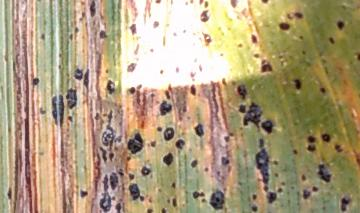tarspot: (254, 137, 278, 205), (100, 107, 123, 155), (98, 173, 116, 213), (242, 101, 264, 132), (50, 92, 67, 129), (125, 132, 145, 155), (208, 190, 227, 210), (128, 182, 146, 203), (65, 86, 79, 111), (317, 162, 332, 183), (157, 99, 172, 118), (81, 67, 92, 90), (259, 58, 274, 74), (162, 126, 176, 143), (338, 194, 351, 212), (104, 78, 117, 96), (200, 30, 213, 48), (192, 122, 206, 138), (109, 171, 120, 191), (261, 119, 274, 134), (162, 151, 174, 167), (350, 147, 360, 165), (199, 9, 211, 24), (98, 145, 108, 163), (72, 66, 83, 82), (88, 1, 98, 18), (237, 82, 247, 99), (247, 32, 259, 46), (128, 22, 139, 37), (334, 18, 346, 31), (140, 164, 152, 177), (293, 9, 305, 22), (125, 61, 137, 74), (174, 139, 185, 153), (301, 188, 312, 202), (276, 22, 291, 32), (219, 154, 231, 166), (5, 186, 14, 202), (188, 157, 199, 170), (191, 190, 206, 199), (333, 142, 344, 154), (305, 143, 317, 154), (98, 29, 110, 40), (293, 77, 302, 91), (78, 10, 87, 24), (30, 76, 41, 87), (320, 132, 331, 143), (127, 85, 138, 96), (305, 134, 317, 144), (133, 42, 140, 58), (189, 83, 197, 97), (326, 35, 337, 45), (78, 188, 89, 198), (151, 19, 161, 30), (237, 103, 248, 113), (170, 196, 179, 208), (126, 170, 135, 182), (222, 135, 232, 145), (285, 11, 294, 22), (37, 106, 48, 115), (66, 113, 74, 125), (115, 201, 123, 213), (67, 31, 75, 43), (229, 1, 239, 10), (173, 64, 182, 74), (161, 32, 167, 47), (299, 172, 307, 183), (39, 31, 47, 42), (93, 111, 101, 122), (167, 80, 173, 94), (318, 85, 327, 94), (270, 158, 279, 167), (163, 90, 172, 99), (188, 69, 197, 78), (149, 139, 157, 149), (250, 203, 258, 213), (275, 185, 283, 195), (109, 151, 116, 162), (354, 51, 360, 63), (252, 51, 261, 59), (169, 181, 178, 189), (310, 183, 318, 192), (291, 147, 299, 156), (73, 24, 80, 34), (221, 76, 227, 87), (279, 179, 287, 187), (117, 169, 125, 177), (149, 92, 157, 100), (202, 1, 210, 9), (235, 42, 244, 49), (56, 62, 63, 71), (251, 192, 257, 202), (273, 170, 279, 180), (197, 63, 203, 73), (202, 166, 210, 173), (125, 154, 132, 162), (297, 34, 305, 41), (158, 68, 165, 76), (104, 67, 111, 75), (259, 1, 270, 6), (159, 207, 168, 213), (145, 207, 154, 213), (189, 76, 198, 82), (148, 47, 155, 54), (218, 51, 225, 58), (181, 28, 188, 35), (171, 30, 178, 37), (197, 1, 205, 7), (156, 125, 162, 132), (228, 131, 235, 137), (183, 1, 190, 7), (300, 49, 306, 56), (192, 56, 198, 63), (57, 52, 63, 59), (153, 1, 163, 5), (163, 21, 169, 27), (79, 1, 85, 6), (169, 1, 173, 8), (189, 1, 194, 5)
